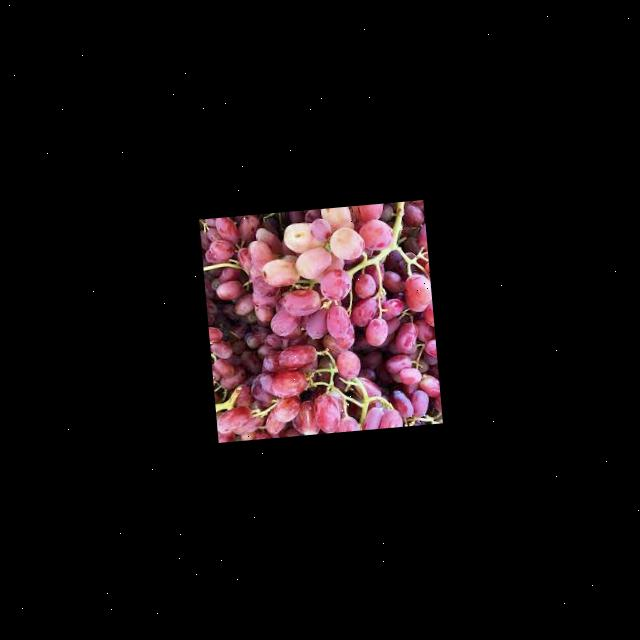grape: (198, 199, 441, 442)
